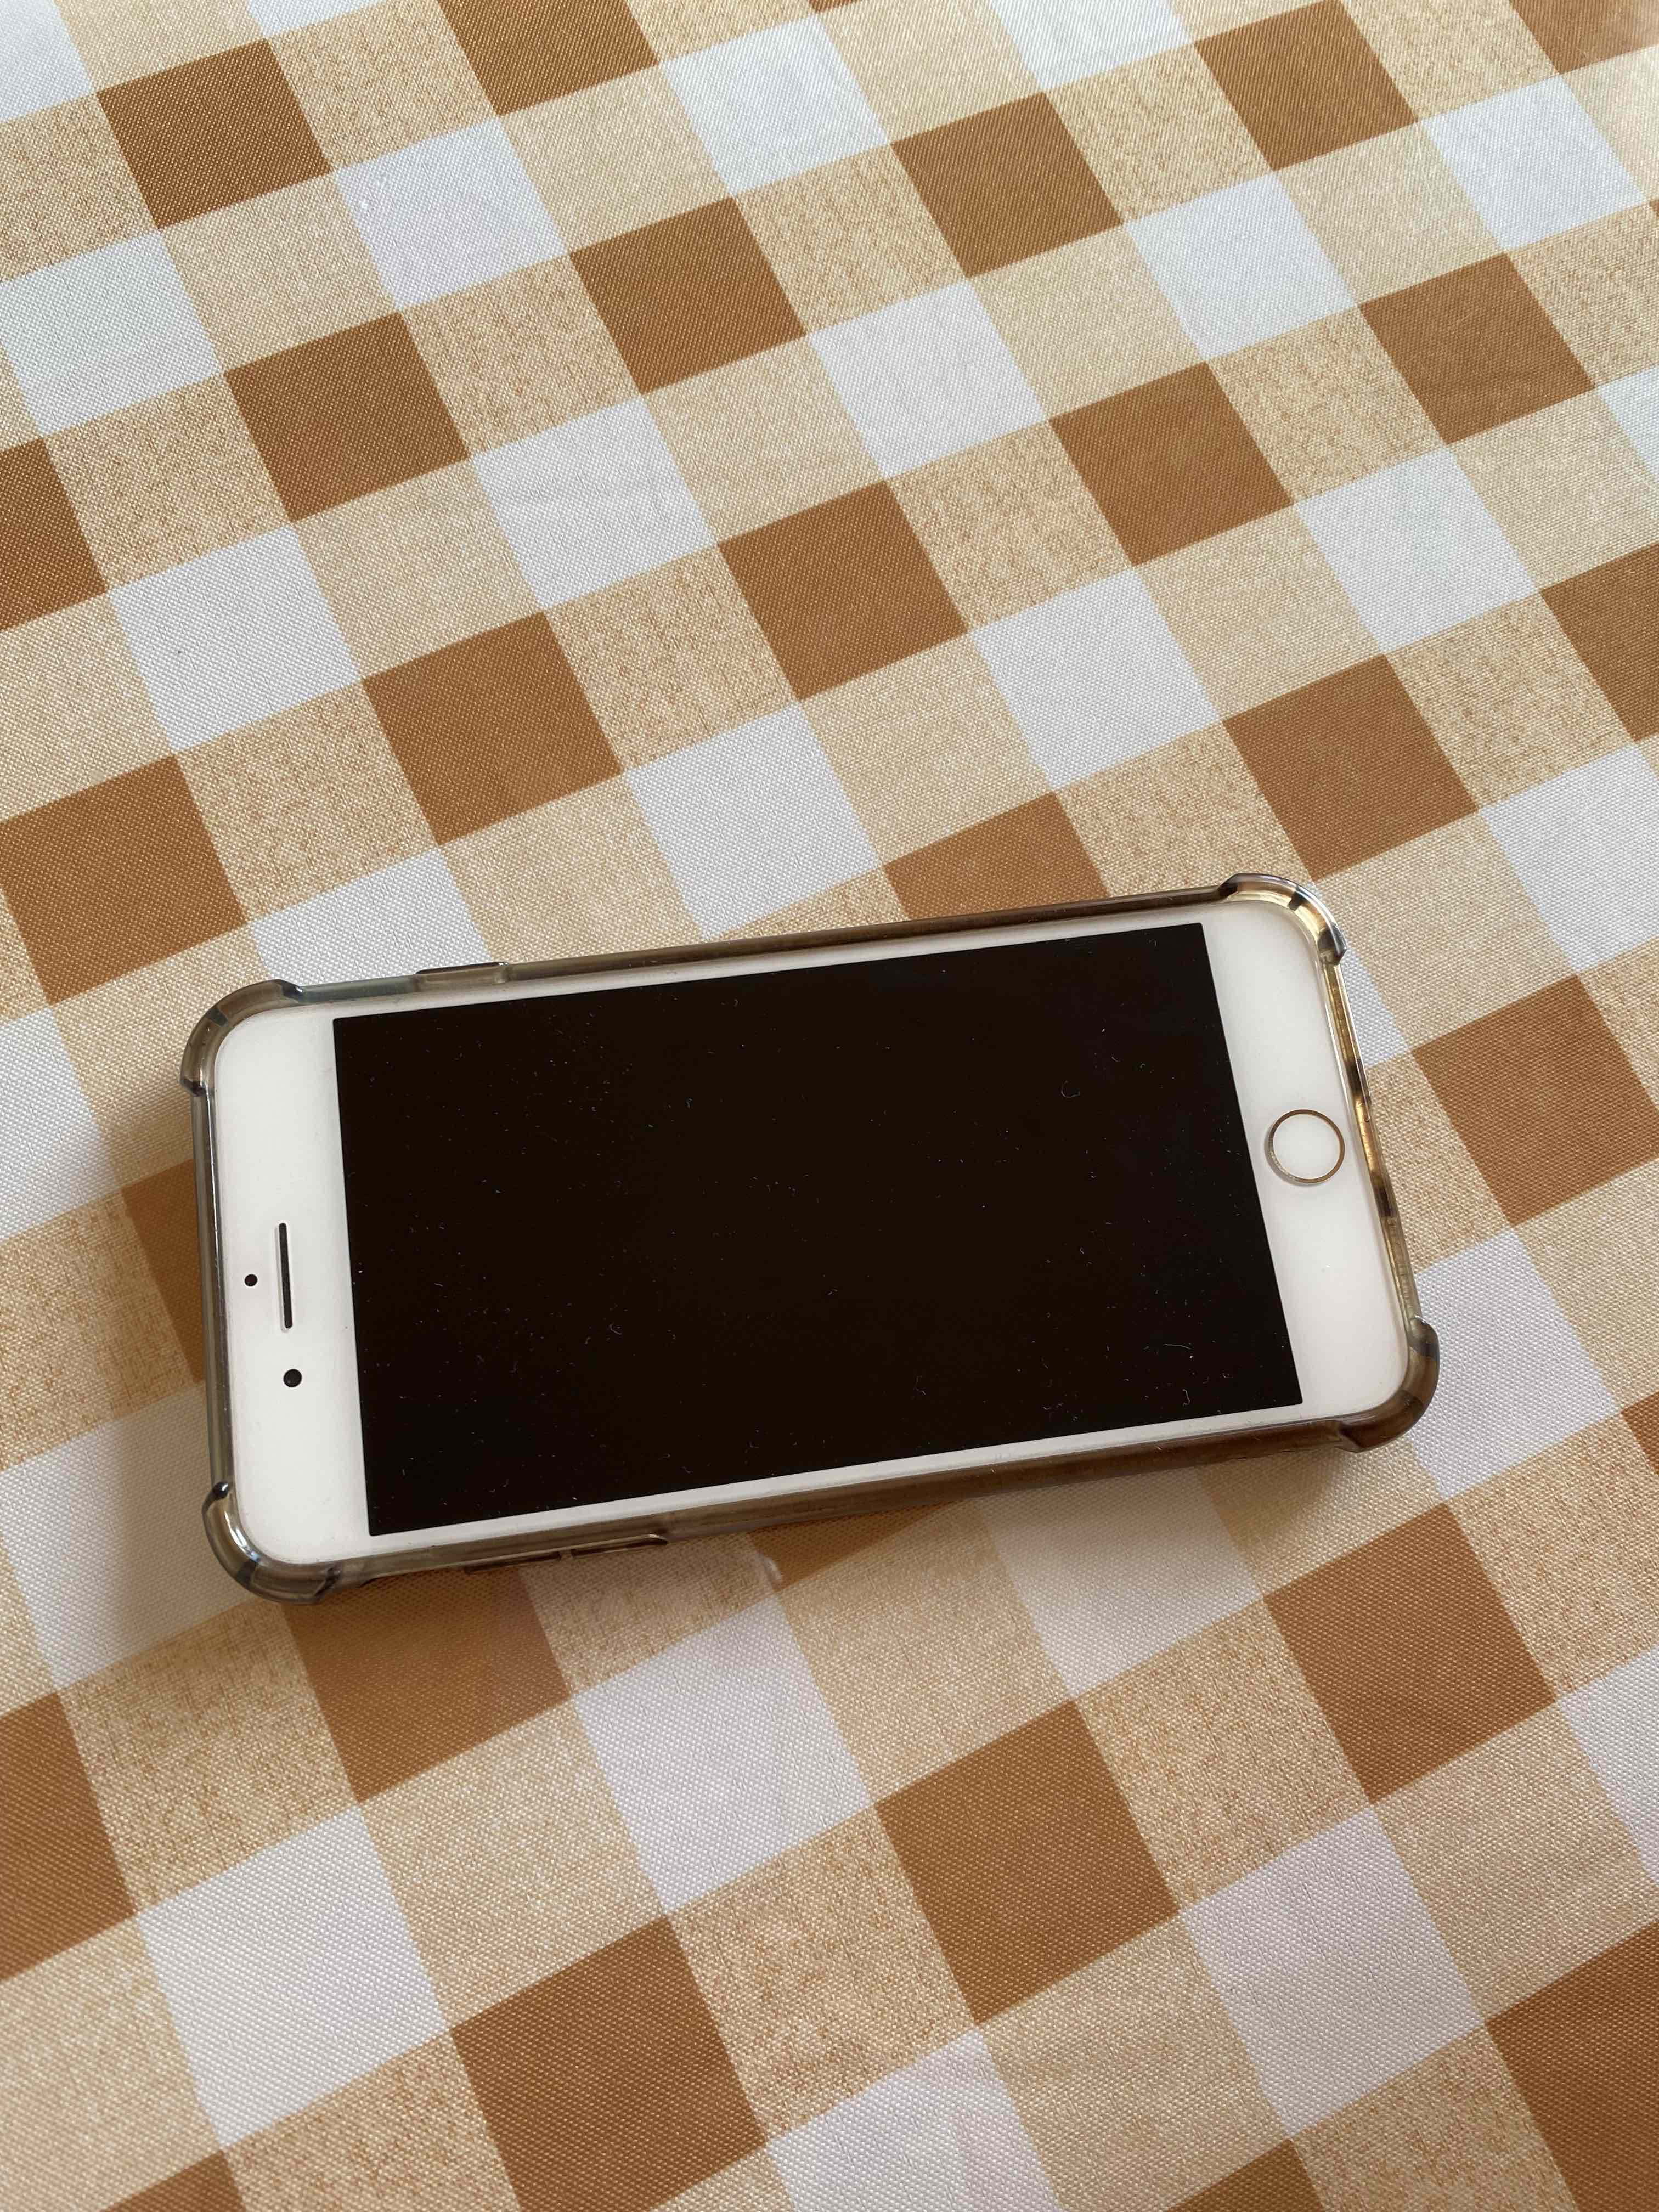Cell Phone: (185, 885, 1443, 1585)
